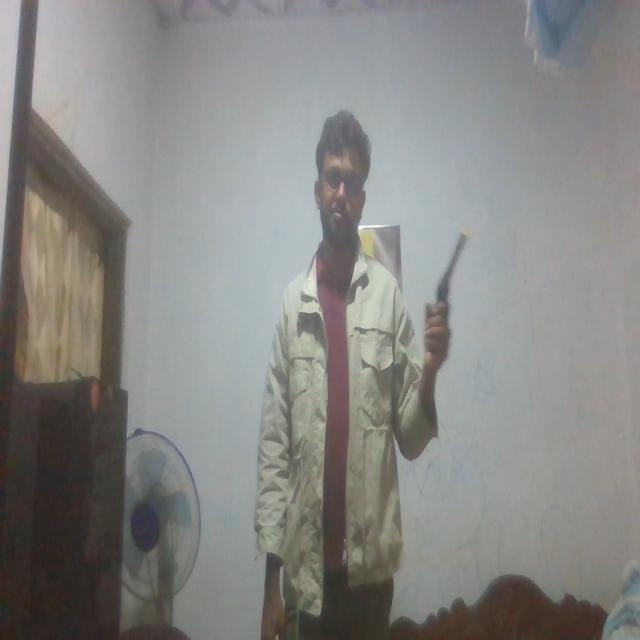Gun_Holder: (424, 221, 476, 347)
Jacket_Wearer: (263, 243, 443, 590)
Person: (255, 106, 445, 640)
